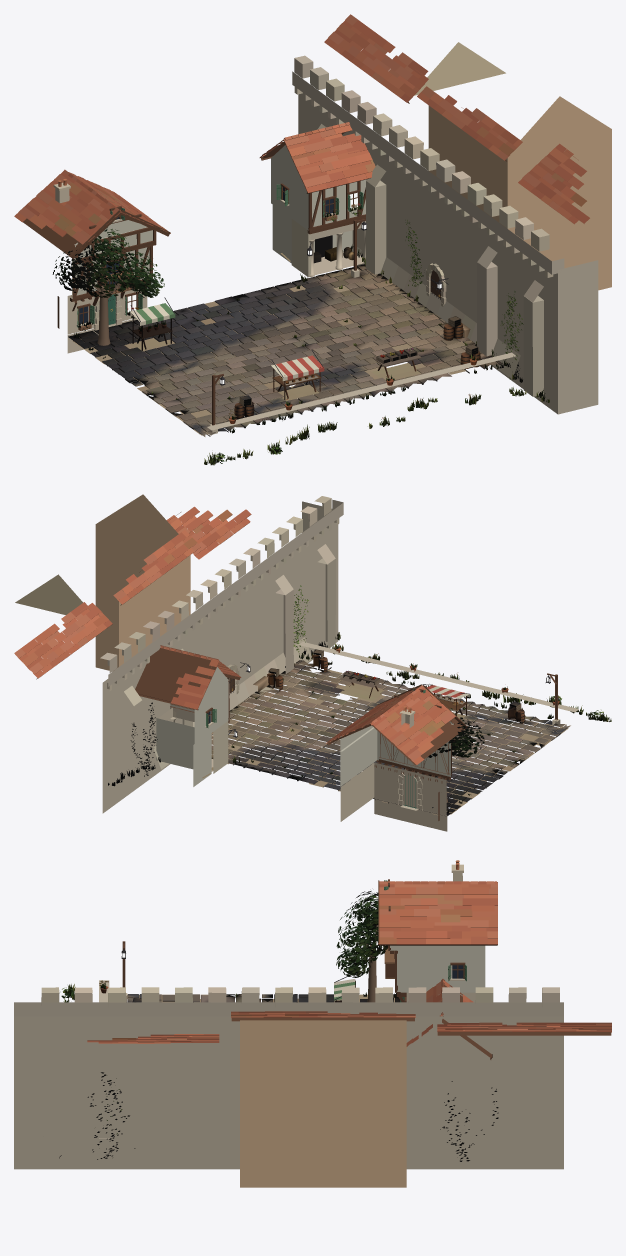
File: barrio_plaza.glb
3 renders of one model, top to bottom at view 1: azimuth 30°, elevation 25°; view 2: azimuth 150°, elevation 25°; view 3: azimuth 270°, elevation 25°, orthographic. The views are drawn at different scales.
Visible parts, largest first — view 1: fijo_plaza, piezas_plaza, vegetacion_plaza; view 2: fijo_plaza, piezas_plaza, vegetacion_plaza; view 3: fijo_plaza, vegetacion_plaza, piezas_plaza.
Boxes of the visible parts, left/top/right/bottom form: fijo_plaza: left=14, top=14, right=611, bottom=435; piezas_plaza: left=68, top=247, right=502, bottom=436; vegetacion_plaza: left=52, top=203, right=549, bottom=465; fijo_plaza: left=14, top=494, right=578, bottom=831; piezas_plaza: left=211, top=647, right=570, bottom=815; vegetacion_plaza: left=108, top=585, right=611, bottom=813; fijo_plaza: left=14, top=860, right=611, bottom=1187; vegetacion_plaza: left=59, top=891, right=498, bottom=1161; piezas_plaza: left=100, top=980, right=399, bottom=1002.
Bounding box in the file's own units: 30.49 × 12.72 × 30.45.
